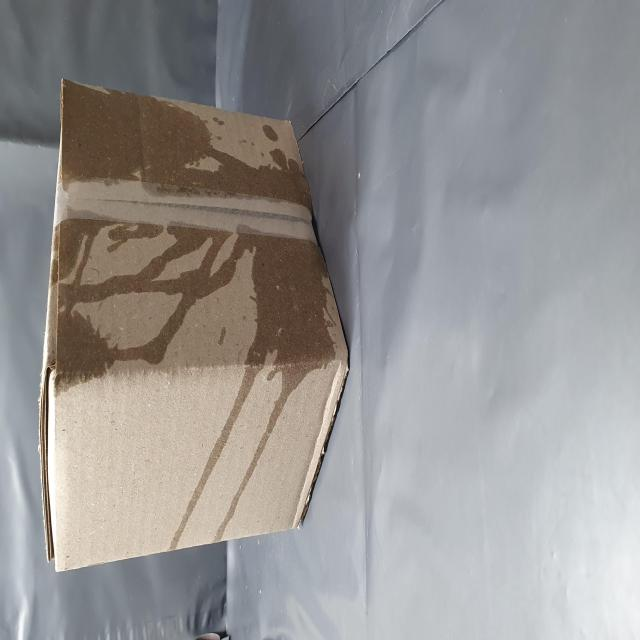wet: (138, 91, 234, 604), (250, 110, 320, 564), (47, 294, 155, 545)
